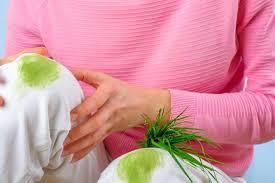earth: (118, 151, 159, 182), (20, 58, 56, 87)
